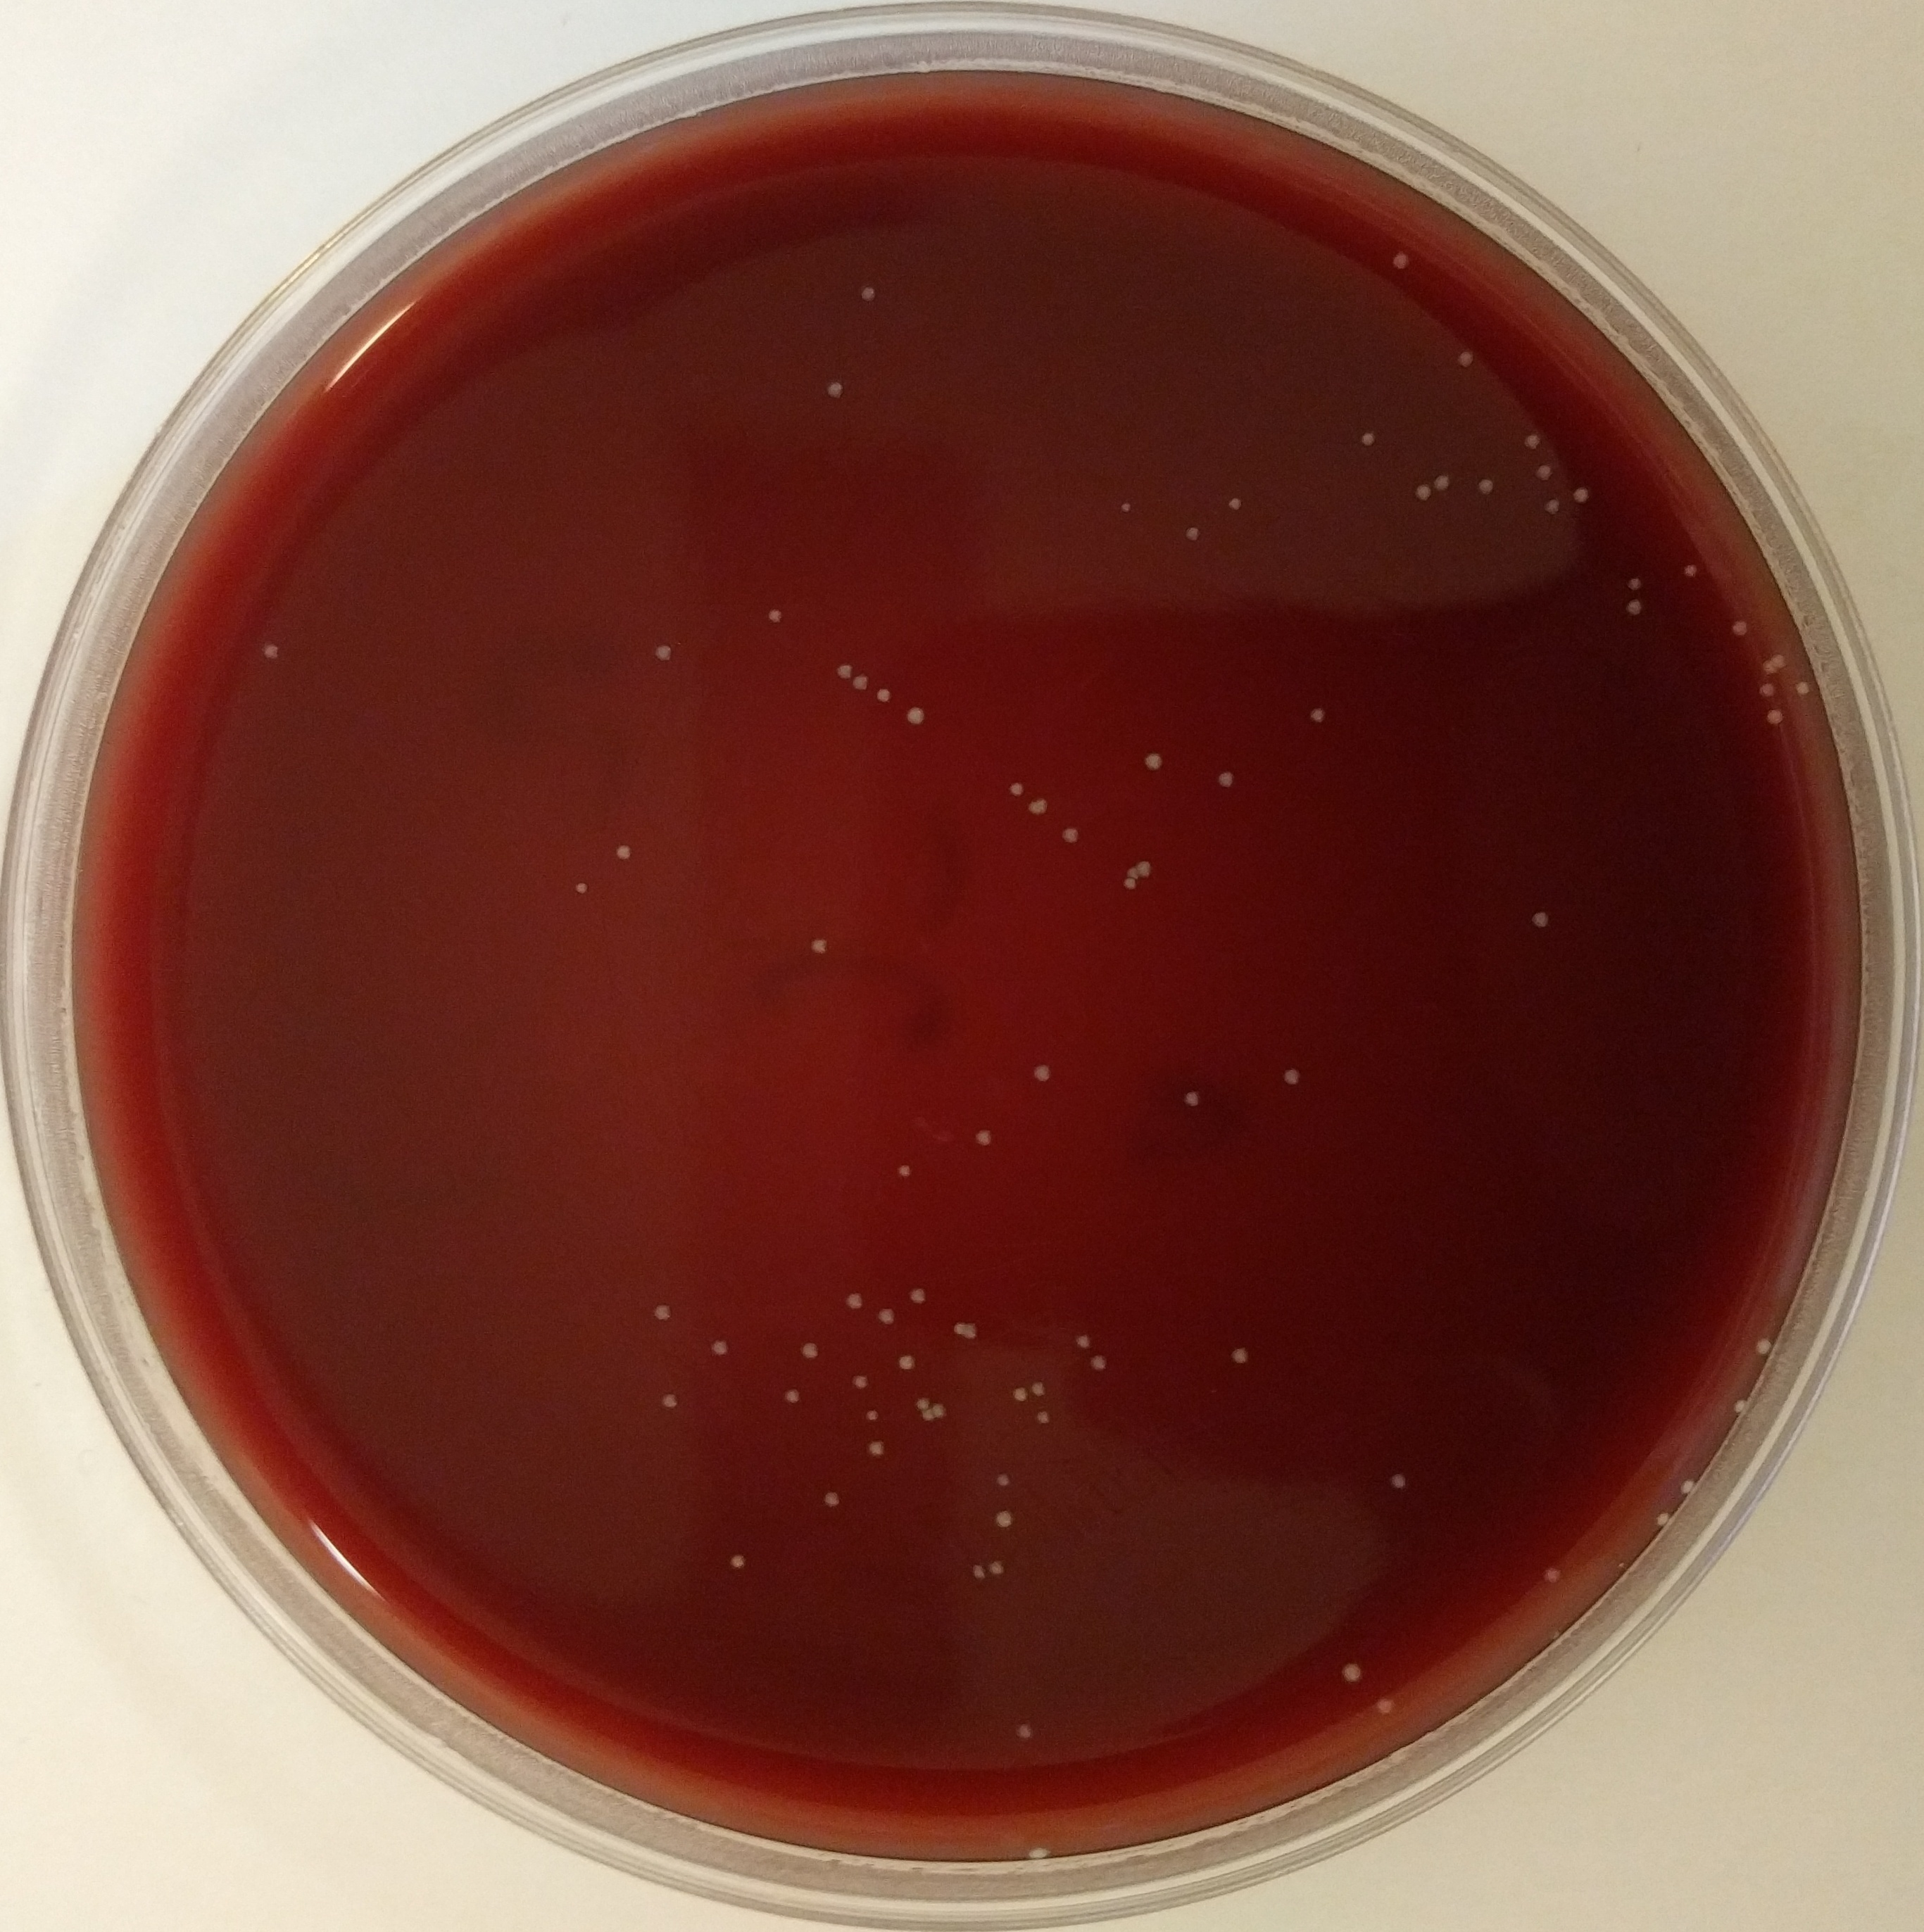sp09: (648, 639, 678, 664), (1212, 768, 1239, 793), (1142, 748, 1165, 775), (1031, 1058, 1054, 1085), (1004, 773, 1027, 798), (902, 703, 927, 726), (1341, 1663, 1364, 1685), (708, 1337, 731, 1360), (832, 657, 855, 680), (1059, 822, 1082, 845), (809, 933, 830, 958), (259, 641, 284, 662), (800, 1340, 821, 1363), (974, 1125, 995, 1148), (1281, 1066, 1304, 1087), (765, 606, 786, 629), (1025, 796, 1048, 817), (872, 683, 893, 706), (825, 379, 846, 400), (994, 1508, 1015, 1529), (1230, 1346, 1251, 1367), (652, 1302, 673, 1323), (876, 1305, 897, 1326), (613, 842, 633, 865), (1392, 250, 1411, 271), (1182, 525, 1203, 544), (987, 1557, 1006, 1578), (728, 1550, 747, 1571), (907, 1286, 929, 1305), (571, 877, 590, 898), (851, 673, 870, 694), (1572, 486, 1591, 505), (1476, 477, 1496, 497), (1075, 1331, 1094, 1351), (865, 1439, 884, 1458), (1390, 1472, 1410, 1492), (1182, 1090, 1202, 1110), (1764, 708, 1785, 726), (1031, 1409, 1052, 1427), (992, 1471, 1013, 1488), (821, 1490, 842, 1508), (782, 1388, 803, 1405), (1543, 1566, 1565, 1583), (895, 1161, 913, 1182), (1753, 1338, 1774, 1356), (1757, 682, 1776, 699), (1732, 618, 1750, 638), (1089, 1353, 1108, 1370), (1015, 1722, 1034, 1740), (851, 1372, 870, 1390), (661, 1391, 680, 1409), (846, 1291, 863, 1310), (899, 1353, 918, 1370), (1378, 1696, 1395, 1715), (1531, 911, 1549, 930), (1626, 599, 1644, 616), (1545, 498, 1563, 516), (1535, 463, 1552, 481), (1360, 430, 1378, 447), (858, 285, 876, 303), (1010, 1386, 1027, 1404), (863, 1407, 881, 1425), (1434, 474, 1450, 493), (1309, 708, 1328, 724), (1679, 1478, 1695, 1497), (1772, 650, 1788, 669), (1027, 1847, 1048, 1862), (1524, 433, 1542, 449), (1457, 350, 1475, 366), (1136, 858, 1152, 875), (964, 1323, 980, 1340), (1031, 1381, 1048, 1397), (1732, 1398, 1750, 1414), (1417, 484, 1431, 504), (1119, 498, 1135, 514), (1654, 1513, 1670, 1529), (1797, 680, 1811, 697), (1683, 562, 1697, 579), (971, 1564, 985, 1582), (1228, 497, 1242, 512), (1122, 877, 1136, 893), (950, 1321, 964, 1337), (914, 1395, 929, 1409), (1758, 659, 1772, 673), (1628, 576, 1644, 588), (934, 1402, 946, 1414), (1126, 866, 1138, 879), (920, 1411, 932, 1420)
